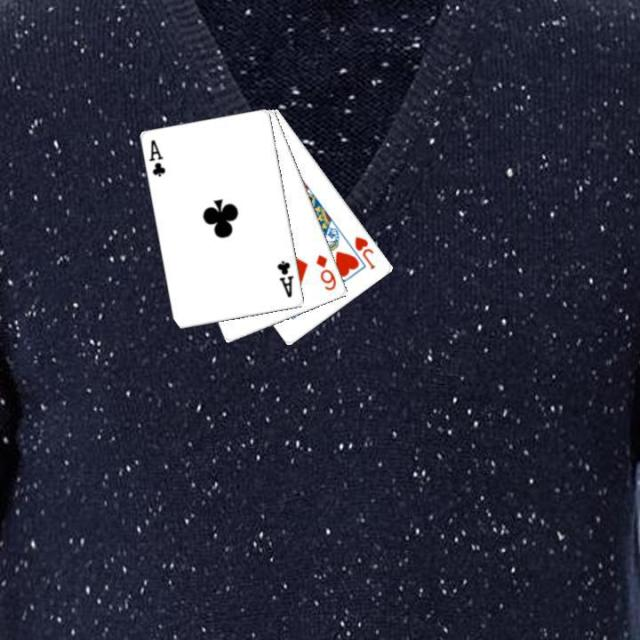6D: (312, 250, 339, 292)
AC: (146, 136, 168, 179), (274, 257, 296, 299)
JH: (351, 233, 378, 271)
